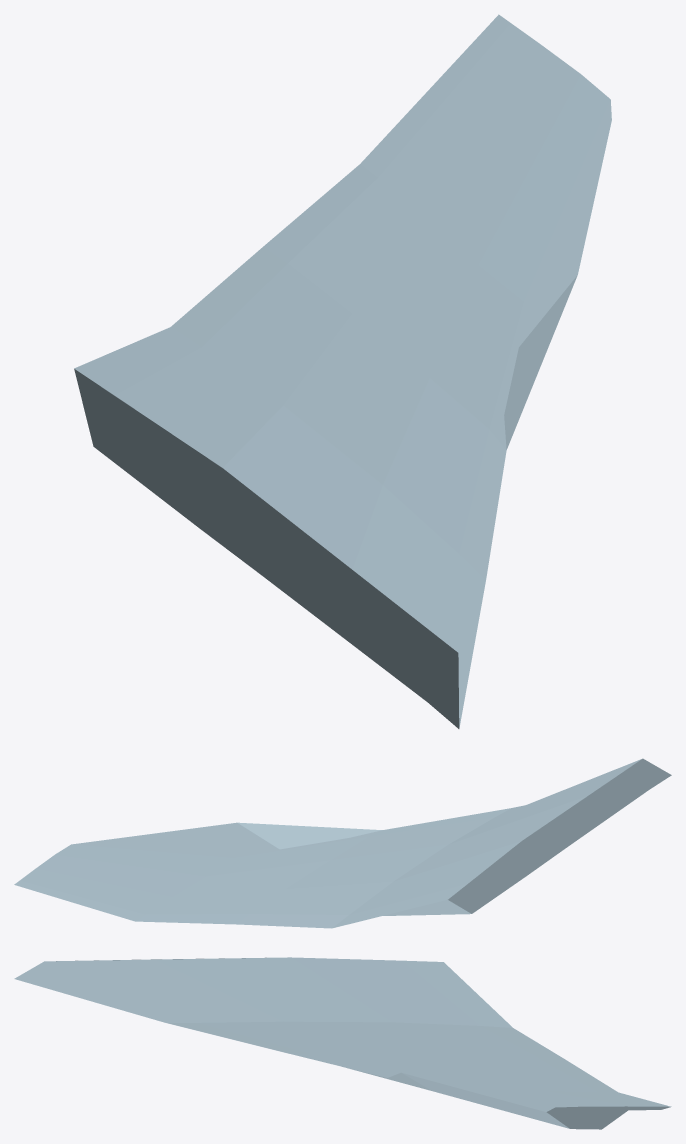
Rendered from su33d_canard_left.glb.
3 renders of one model, top to bottom at view 1: azimuth 30°, elevation 25°; view 2: azimuth 150°, elevation 25°; view 3: azimuth 270°, elevation 25°, orthographic. The views are drawn at different scales.
Parts seen in each view (by area): view 1: 0_CanardLeft; view 2: 0_CanardLeft; view 3: 0_CanardLeft.
Part boxes in pixels (left/top/right/bottom): 0_CanardLeft: left=74, top=14, right=611, bottom=728; 0_CanardLeft: left=14, top=758, right=671, bottom=928; 0_CanardLeft: left=14, top=957, right=671, bottom=1129.
Bounding box in the file's own units: 1.8 × 0.2251 × 2.93.
